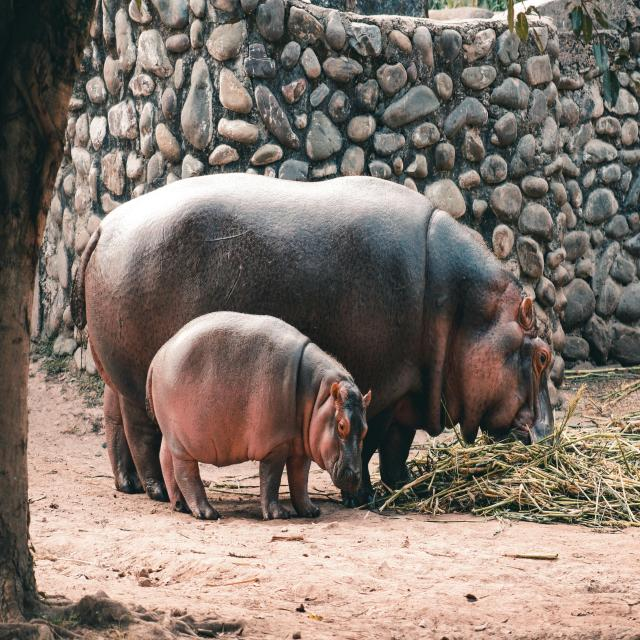Hippopotamus: (78, 170, 556, 514)
